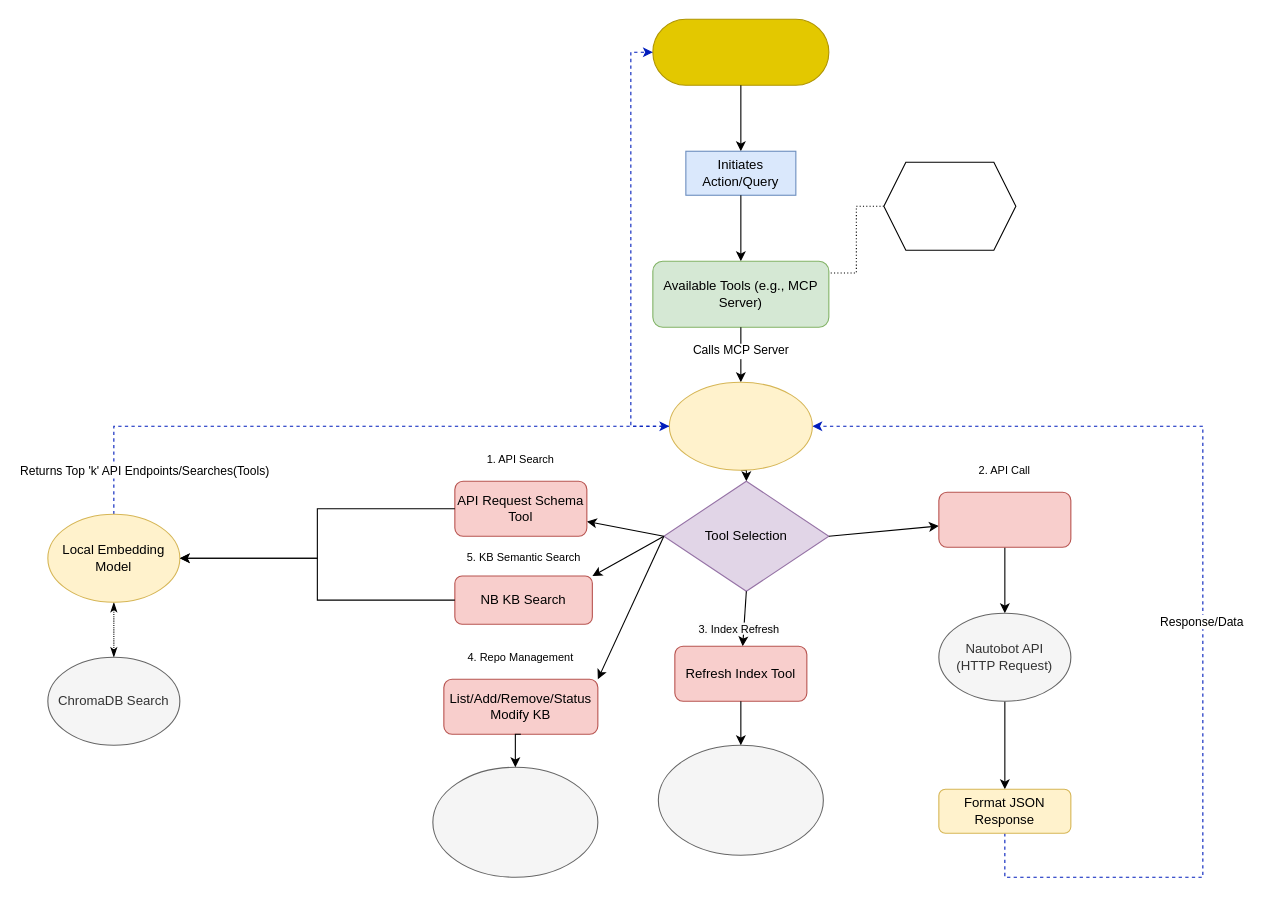
This 1262x908 diagram has some shape labels left out. The shapes that lost their labels are listed below. From the top down, each one's centre as x and y in pixels, then its label:
At point (740, 51): "VSCode Copilot Agent".
At point (949, 205): "Provides context/actionable items".
At point (740, 425): "Nautobot MCP Server".
At point (1004, 519): "Dynamic API Request Tool".
At point (740, 799): "Fetch OpenAPI Schema & Update ChromaDB".
At point (515, 821): "Creates/Updates ChromaDB KB".
